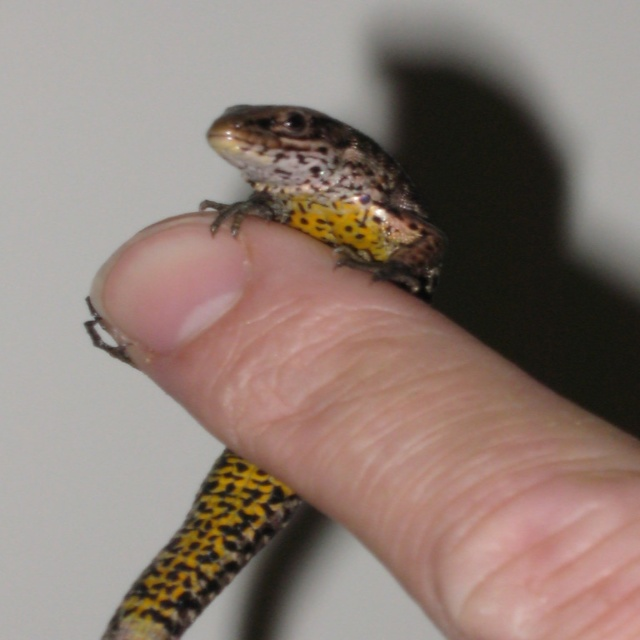Lizard: (84, 103, 444, 640)
